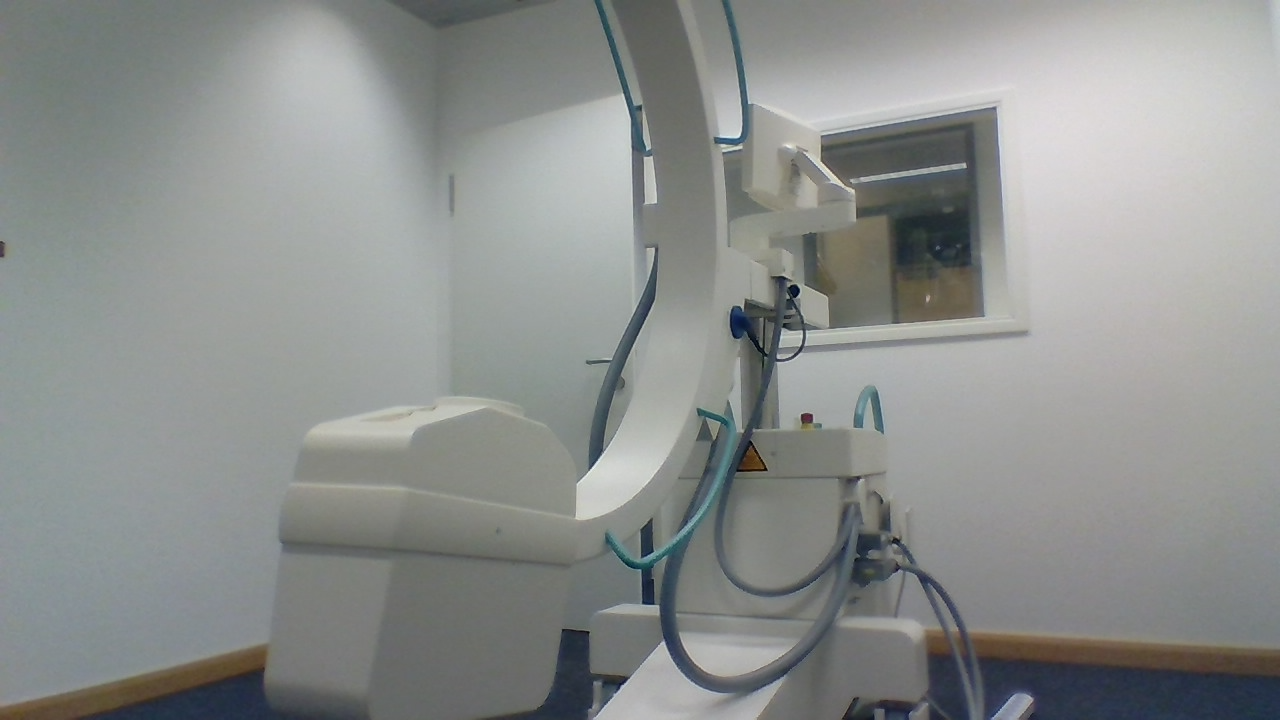carmBACK: (792, 420, 823, 432)
carmDOWN: (287, 393, 579, 520)
carmLOCK: (728, 305, 748, 340)
carmSCREEN: (742, 98, 820, 219)
